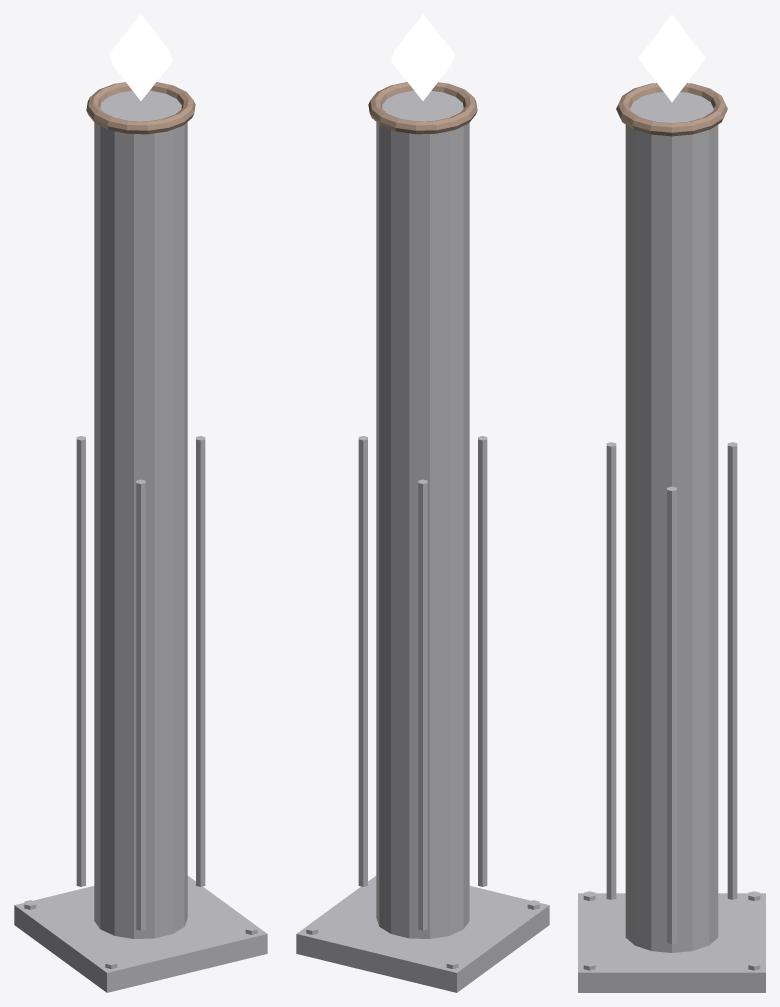
Rendered from flare_stack_common.glb.
3 renders of one model, left to right at view 1: azimuth 30°, elevation 25°; view 2: azimuth 150°, elevation 25°; view 3: azimuth 270°, elevation 25°, orthographic.
Parts seen in each view (by area): view 1: flare_stack, flame; view 2: flare_stack, flame; view 3: flare_stack, flame.
Part boxes in pixels (x1,y1,x2,y2): flare_stack: [14, 82, 267, 992]; flame: [109, 14, 172, 100]; flare_stack: [296, 82, 549, 992]; flame: [391, 14, 454, 100]; flare_stack: [578, 83, 765, 992]; flame: [638, 14, 705, 102].
Bounding box in the file's own units: 1.34 × 7.41 × 1.34.
